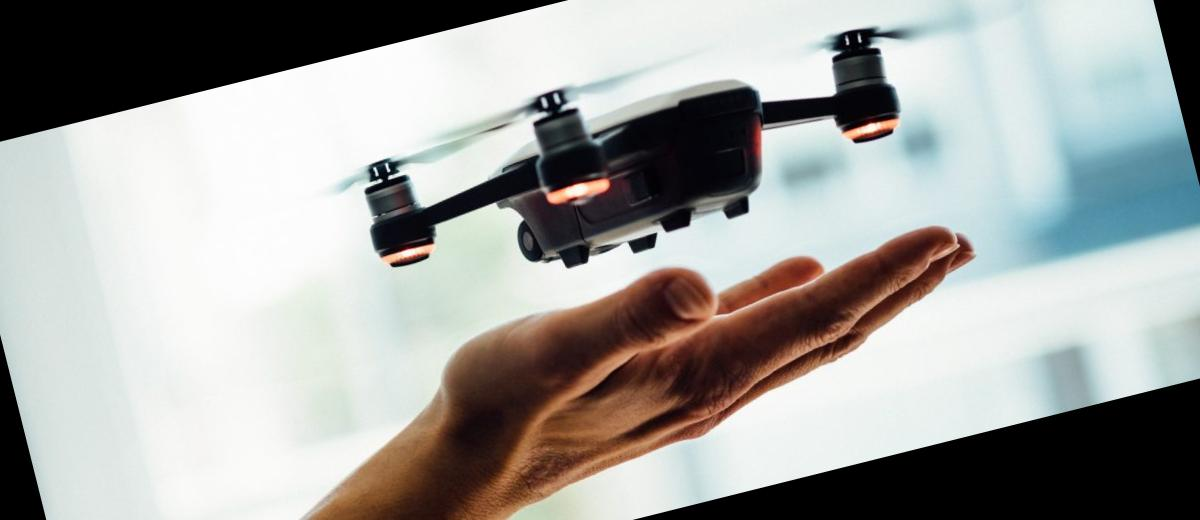drone: (305, 0, 992, 344)
